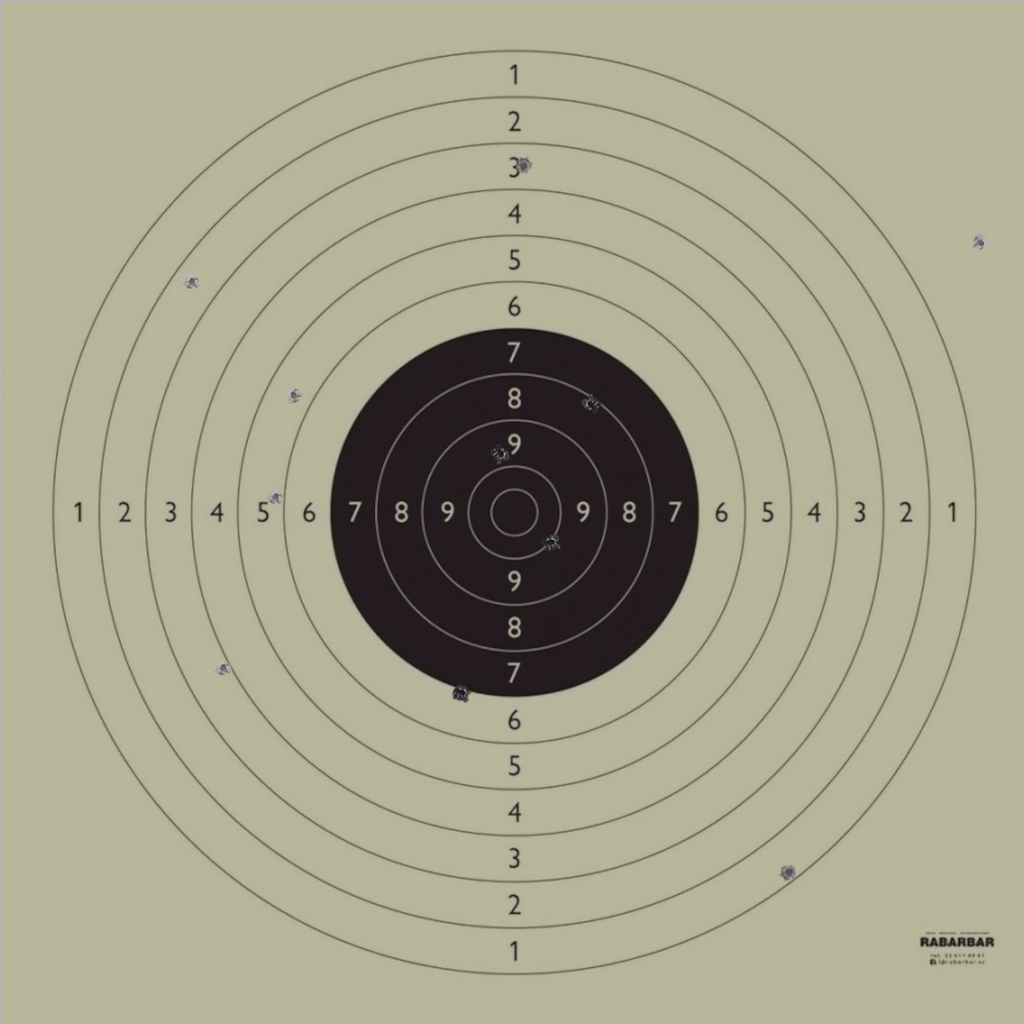0 punktow: (971, 234, 990, 252)
1 punkt: (779, 863, 798, 882)
10 punktow: (542, 534, 560, 552)
2 punkty: (183, 272, 201, 291)
3 punkty: (515, 157, 533, 175)
4 punkty: (214, 659, 233, 677)
5 punktow: (285, 386, 303, 404)
6 punktow: (267, 488, 285, 506)
7 punktow: (453, 684, 471, 702)
8 punktow: (582, 395, 601, 414)
9 punktow: (491, 444, 509, 463)
